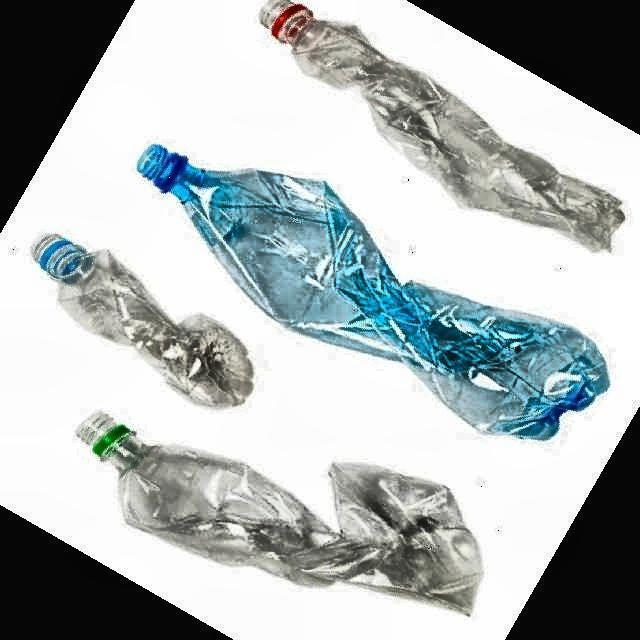plastic: (138, 145, 609, 438), (261, 0, 624, 250), (76, 412, 482, 613), (34, 235, 252, 408)
